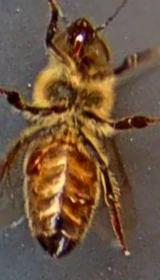varroa_mite: (21, 145, 46, 175)
